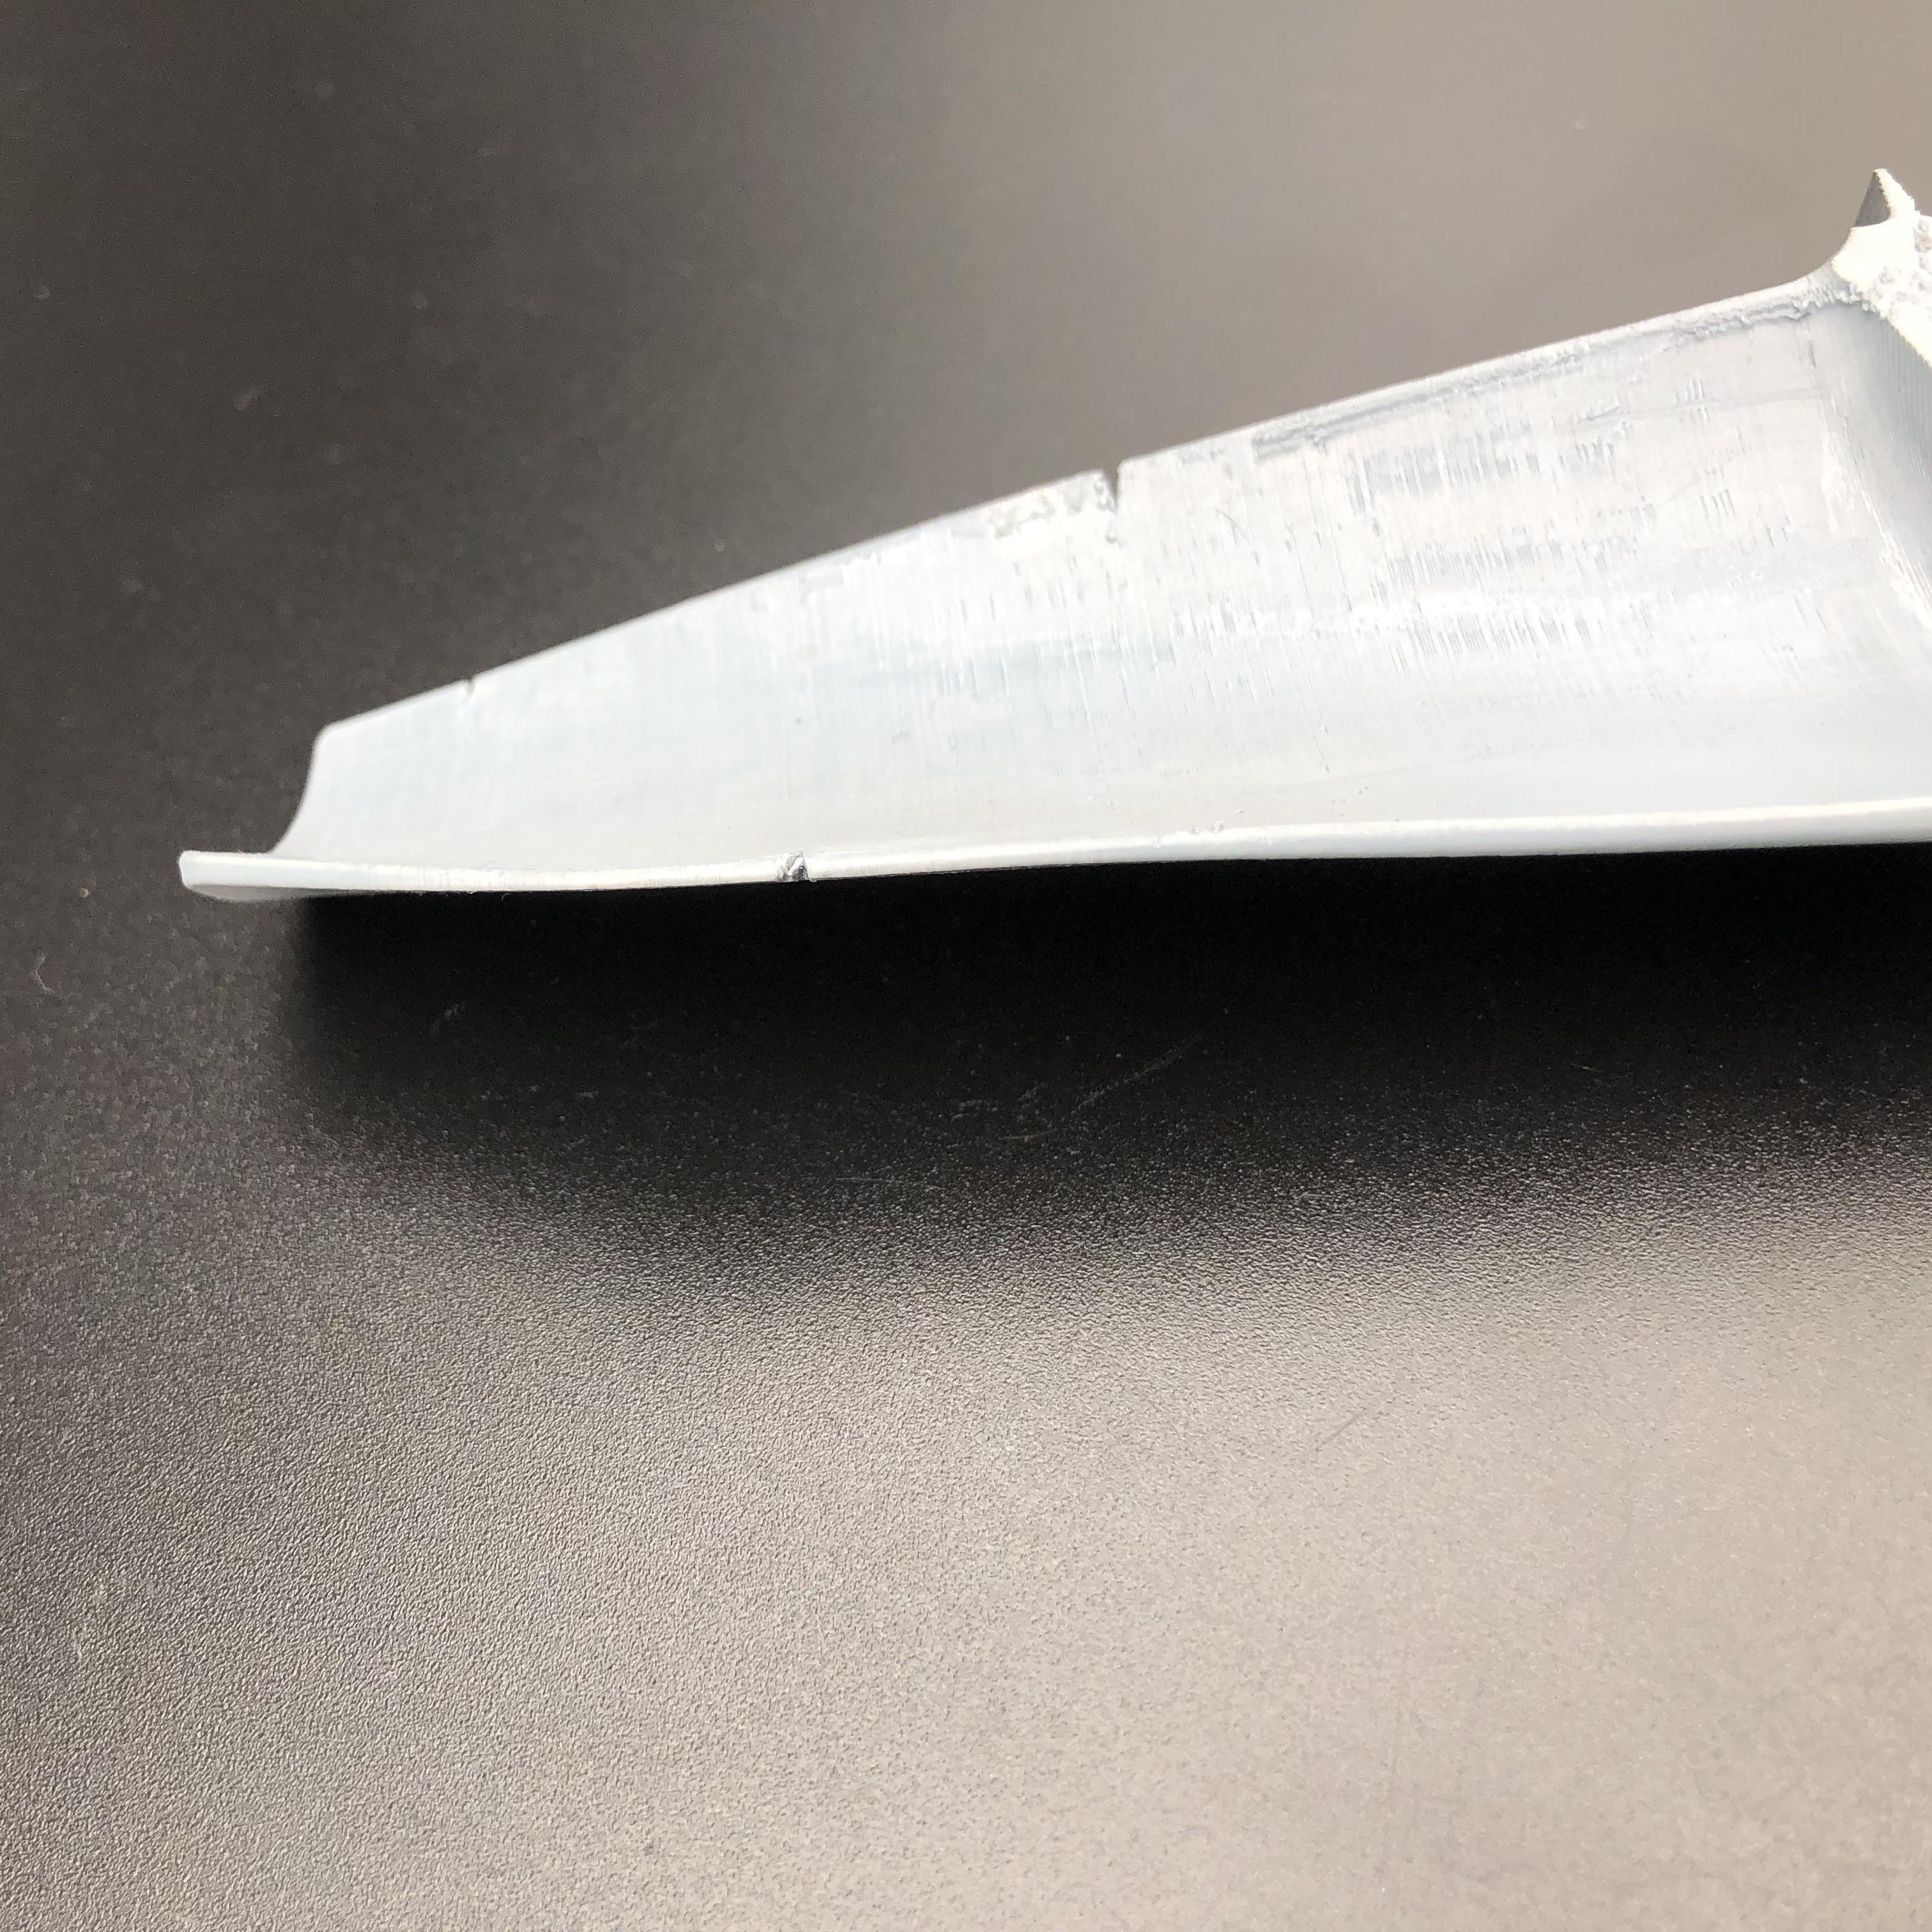groove: (770, 842, 830, 881), (1085, 472, 1146, 510), (451, 672, 490, 697)
